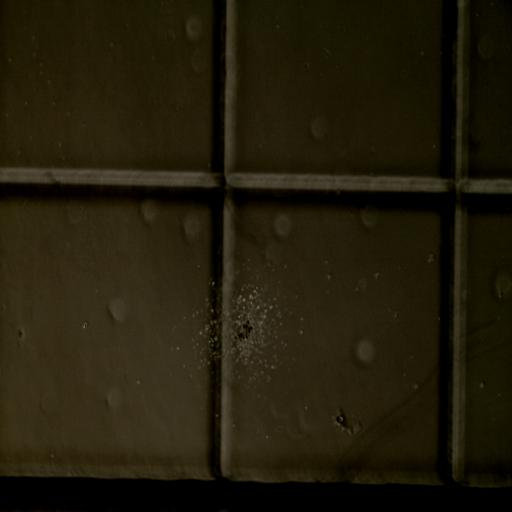CFU-GM: (191, 278, 277, 385)
